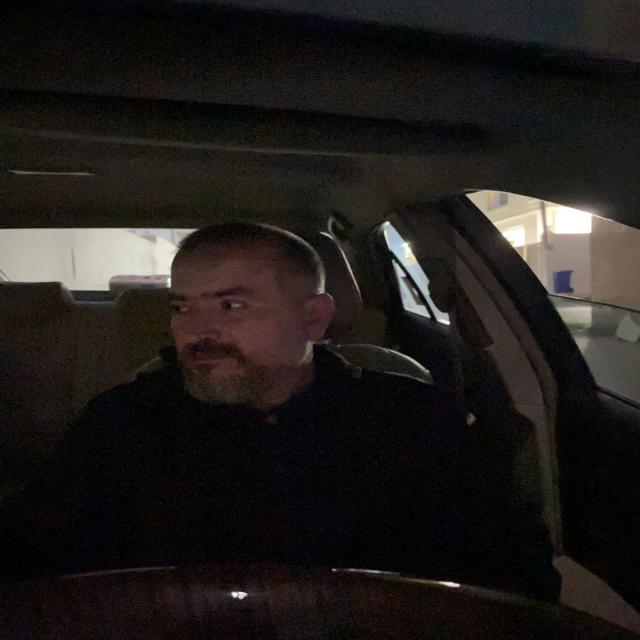person: (153, 227, 341, 425)
